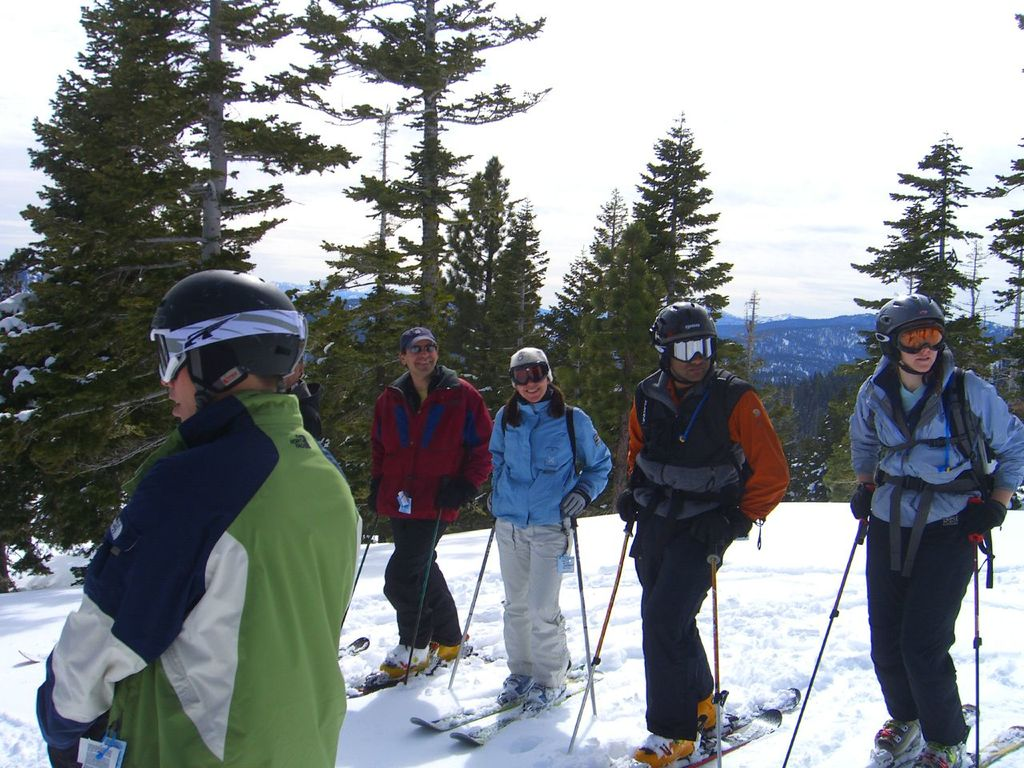Footwear: (871, 714, 924, 758), (634, 731, 698, 763), (378, 642, 431, 679), (519, 677, 569, 714), (494, 671, 535, 711), (911, 739, 969, 767), (698, 689, 729, 734), (431, 646, 463, 661)
